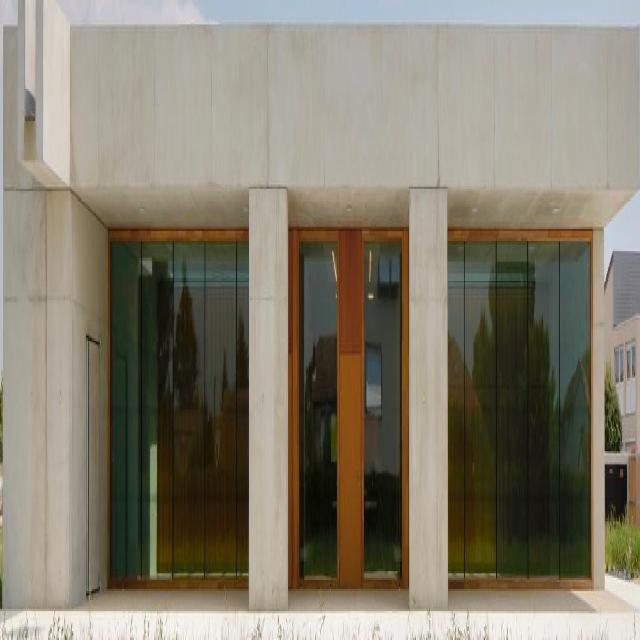window: (449, 242, 595, 598), (112, 242, 250, 584), (365, 244, 404, 595), (300, 244, 338, 588)
